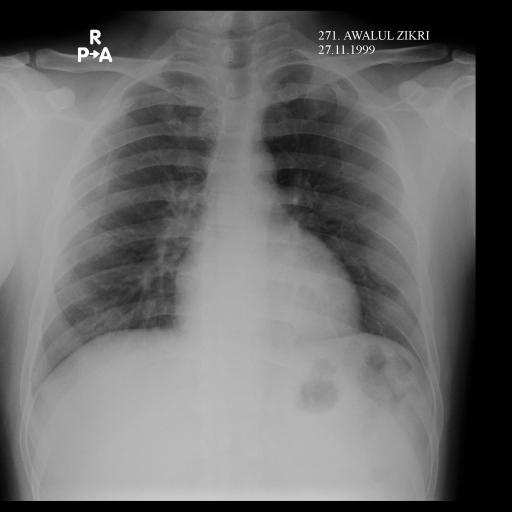normal: (17, 35, 437, 390)
